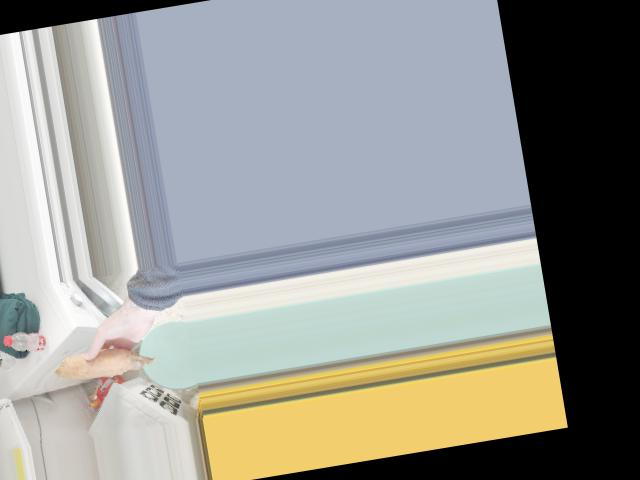sweet_potato: (64, 339, 148, 382)
